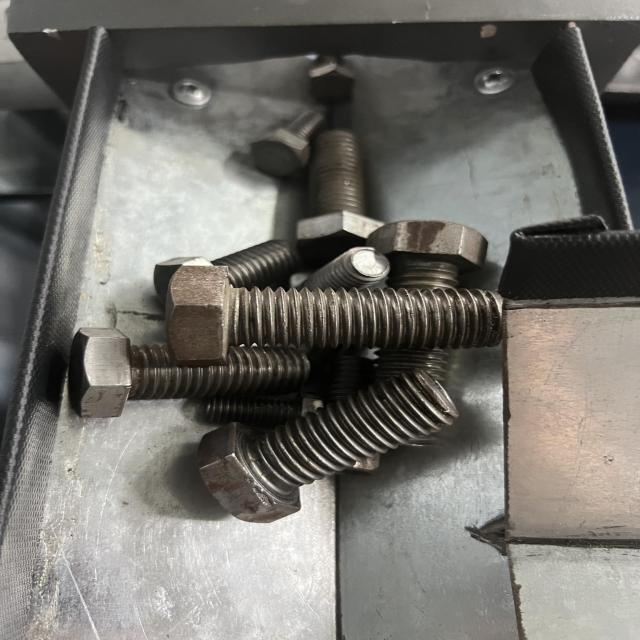bolt: (197, 369, 458, 521), (164, 265, 502, 361), (68, 332, 306, 417)
